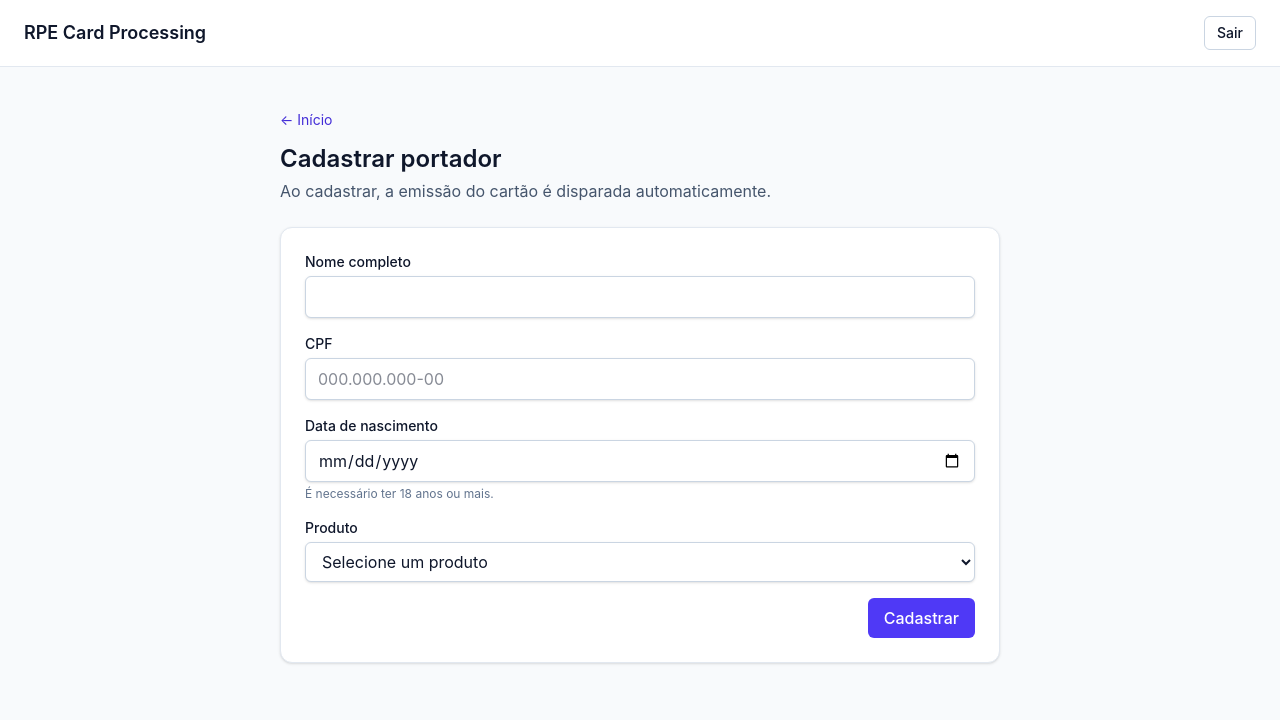
cadastro de portador: formulário › deveMostrarOsErrosDeValidacaoSemChamarOBackend
The width and height of the screenshot is (1280, 720).
Expected: the dropdown labelled "Produto" is enabled, [305,542,975,582]
Click the button "Cadastrar" at (921, 618), box [868,598,975,638]
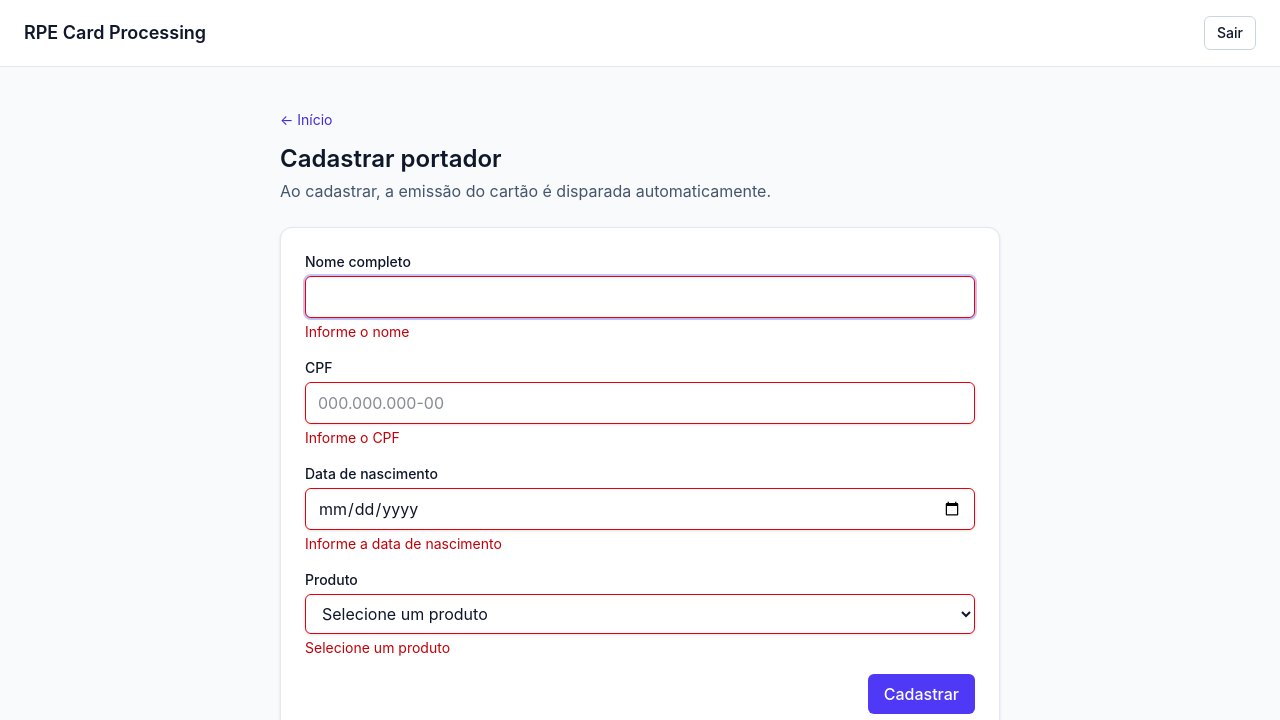
Expected: the text "Informe o nome" is shown, [305,323,410,340]
Expected: the text "Informe o CPF" is shown, [305,429,400,446]
Expected: the text "Informe a data de nascimento" is shown, [305,535,502,552]
